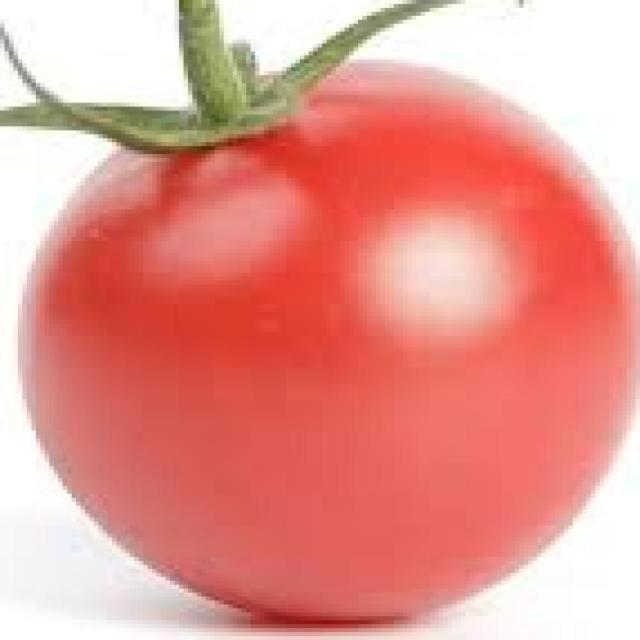Healthy Fruit: (15, 24, 426, 427)
